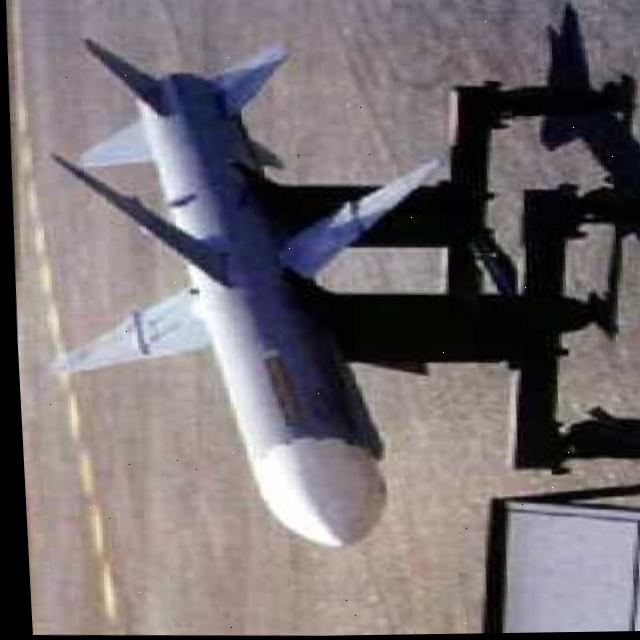missile: (27, 32, 462, 557)
